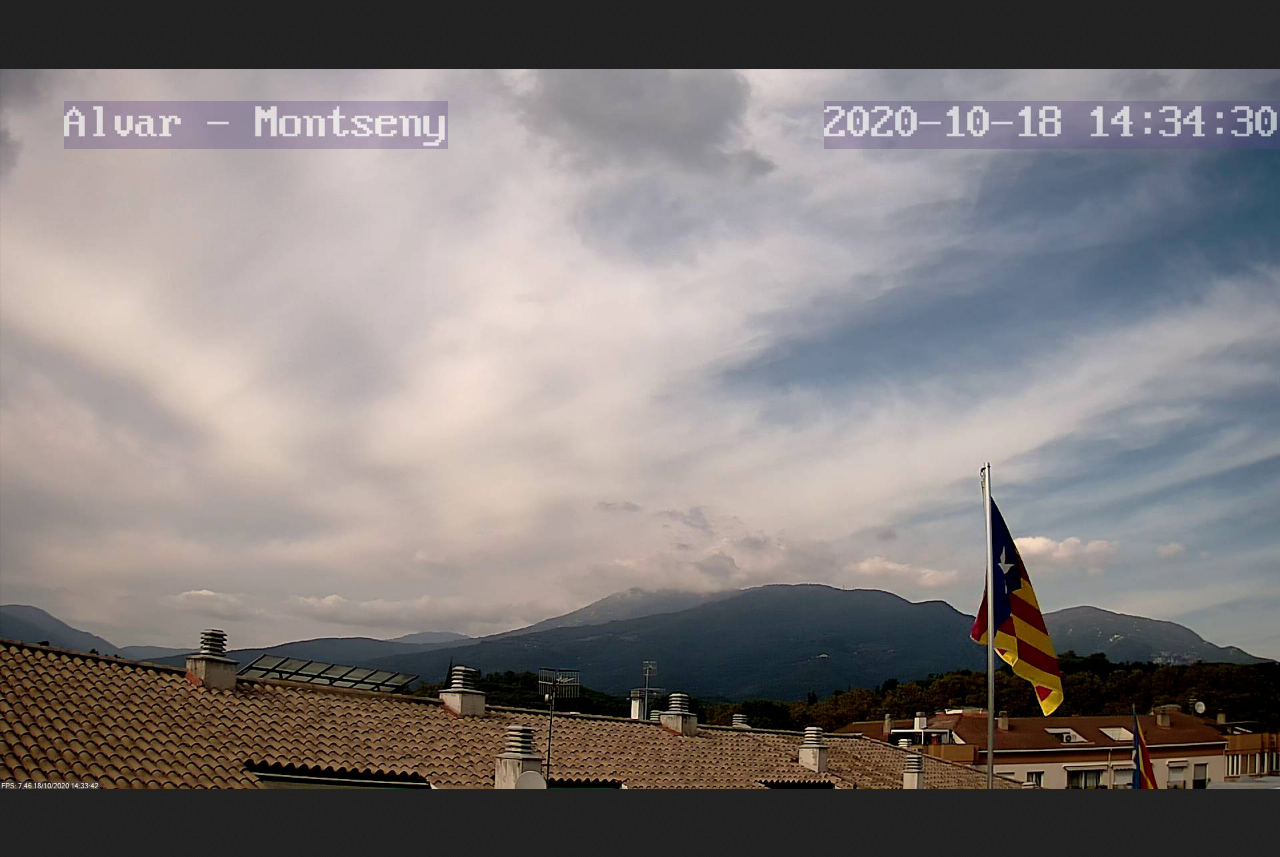no: (967, 452, 1078, 722)
